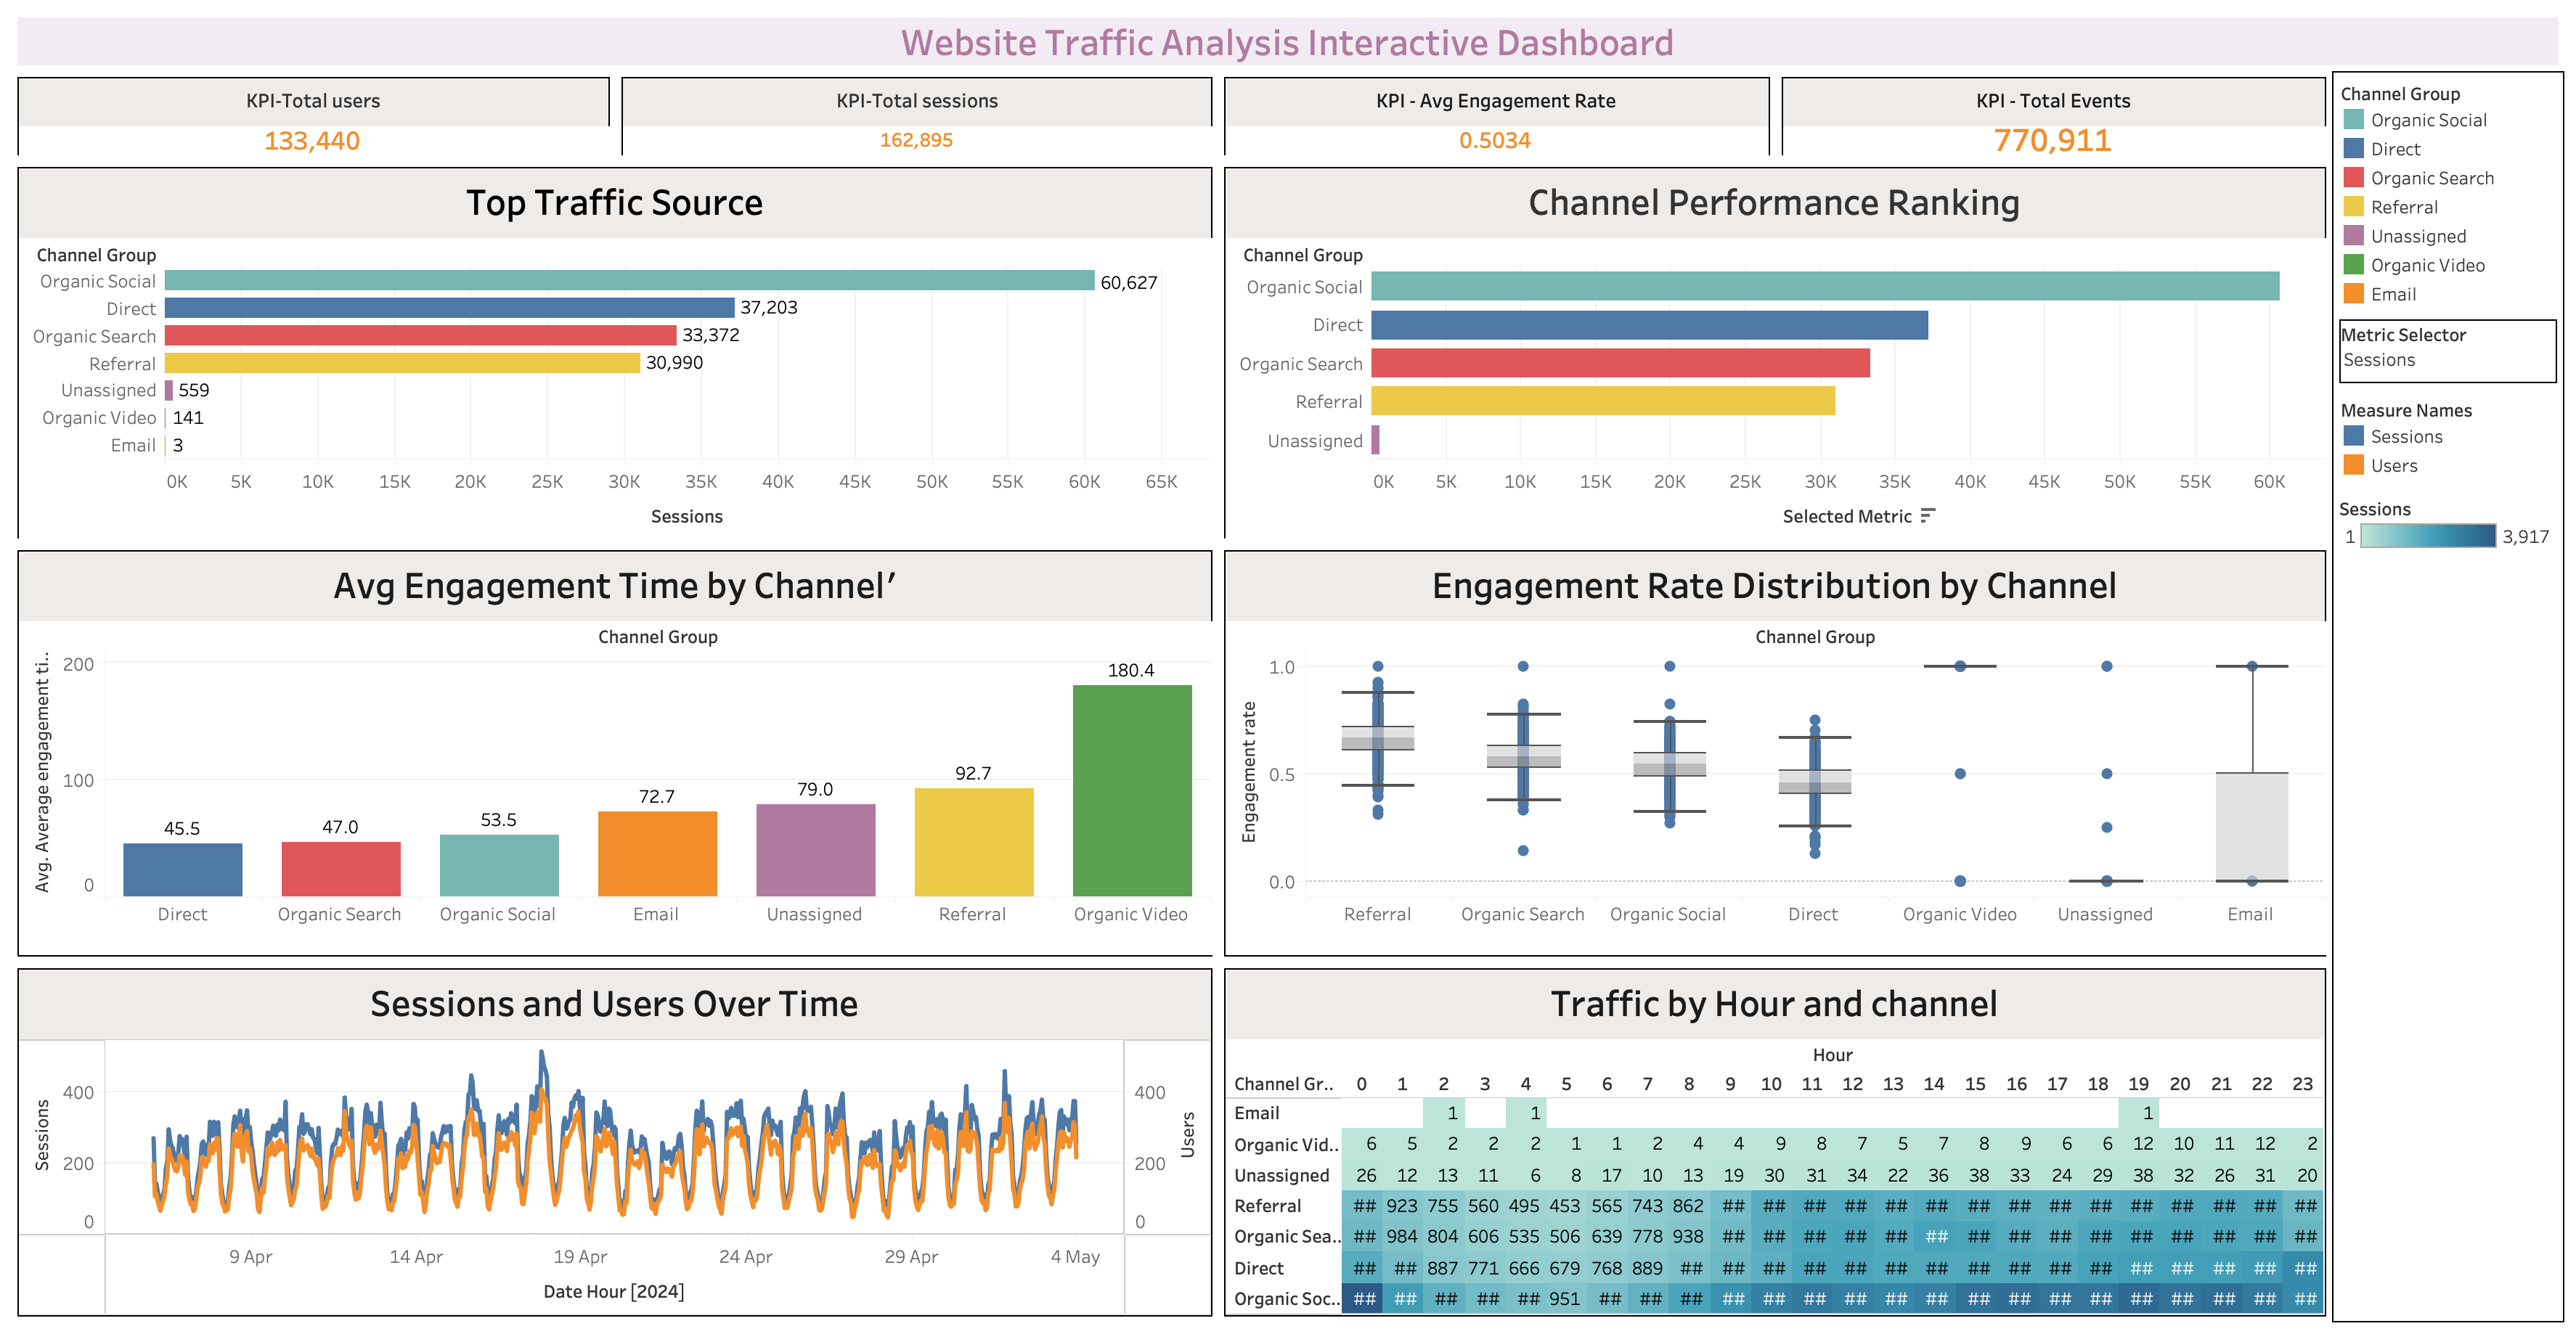

The page's visual inventory and layout, read from the dashboard file:
{"tool":"tableau","page":{"name":"Dashboard 1","canvas":[1000,1000],"units":"permille","ordinal":0},"visuals":[{"type":"title","box":[5,8.7,989.9,44.6]},{"type":"worksheet","title":"KPI-Total users","mark":"Automatic","box":[5,53.3,231.3,67]},{"type":"worksheet","title":"KPI-Total sessions","mark":"Automatic","box":[236.3,53.3,231.4,67]},{"type":"worksheet","title":"KPI - Avg Engagement Rate","mark":"Automatic","box":[467.7,53.3,213.3,67]},{"type":"worksheet","title":"KPI - Total Events","mark":"Automatic","box":[681,53.3,213.3,67]},{"type":"legend","title":"Top Traffic Source","param":"[federated.0f3ig6b1klsd2i19t8lak03fh0au].[none:channel group:nk]","box":[894.9,54.4,99.4,180.6]},{"type":"worksheet","title":"Top Traffic Source","mark":"Automatic","rows":["channel group"],"cols":["Sessions"],"box":[5,120.4,462.7,288.1]},{"type":"worksheet","title":"Channel Performance Ranking","mark":"Automatic","rows":["channel group"],"cols":["Calculation_1284611536355329"],"box":[467.7,120.4,426.6,288.1]},{"type":"parameter","param":"[Parameters].[Parameter 1284611535839232]","box":[894.9,235.1,99.4,56.6]},{"type":"legend","title":"Sessions and Users Over Time","param":"[federated.0f3ig6b1klsd2i19t8lak03fh0au].[:Measure Names]","box":[894.9,291.7,99.4,71.8]},{"type":"legend","title":"raffic by Hour and Channel","param":"[federated.0f3ig6b1klsd2i19t8lak03fh0au].[sum:Sessions:qk]","box":[894.9,363.5,99.4,70.7]},{"type":"worksheet","title":"Avg Engagement Time by Channel'","mark":"Automatic","rows":["Average engagement time per session"],"cols":["channel group"],"box":[5,408.5,462.7,313]},{"type":"worksheet","title":"Engagement Rate Distribution by Channel","mark":"Circle","rows":["Engagement rate"],"cols":["channel group"],"box":[467.7,408.5,426.6,313]},{"type":"worksheet","title":"Sessions and Users Over Time","mark":"Automatic","rows":["Sessions","Users"],"cols":["DateHour"],"box":[5,721.4,462.7,269.9]},{"type":"worksheet","title":"raffic by Hour and Channel","mark":"Square","rows":["channel group"],"cols":["Hour"],"box":[467.7,721.4,426.6,269.9]}]}

Visuals, with their boxes on the dashboard's canvas, which has no fixed pixel size, in thousandths of its width and height (x1, y1, x2, y2). These are canvas units, not pixel positions in the 2576x1334 screenshot, which may show the page scaled, cropped or inside an application window:
title: pyautogui.locateOnScreen(5, 9, 995, 53)
"KPI-Total users" worksheet: pyautogui.locateOnScreen(5, 53, 236, 120)
"KPI-Total sessions" worksheet: pyautogui.locateOnScreen(236, 53, 468, 120)
"KPI - Avg Engagement Rate" worksheet: pyautogui.locateOnScreen(468, 53, 681, 120)
"KPI - Total Events" worksheet: pyautogui.locateOnScreen(681, 53, 894, 120)
"Top Traffic Source" legend: pyautogui.locateOnScreen(895, 54, 994, 235)
"Top Traffic Source" worksheet: pyautogui.locateOnScreen(5, 120, 468, 408)
"Channel Performance Ranking" worksheet: pyautogui.locateOnScreen(468, 120, 894, 408)
parameter: pyautogui.locateOnScreen(895, 235, 994, 292)
"Sessions and Users Over Time" legend: pyautogui.locateOnScreen(895, 292, 994, 364)
"raffic by Hour and Channel" legend: pyautogui.locateOnScreen(895, 364, 994, 434)
"Avg Engagement Time by Channel'" worksheet: pyautogui.locateOnScreen(5, 408, 468, 722)
"Engagement Rate Distribution by Channel" worksheet (Circle marks): pyautogui.locateOnScreen(468, 408, 894, 722)
"Sessions and Users Over Time" worksheet: pyautogui.locateOnScreen(5, 721, 468, 991)
"raffic by Hour and Channel" worksheet (Square marks): pyautogui.locateOnScreen(468, 721, 894, 991)
